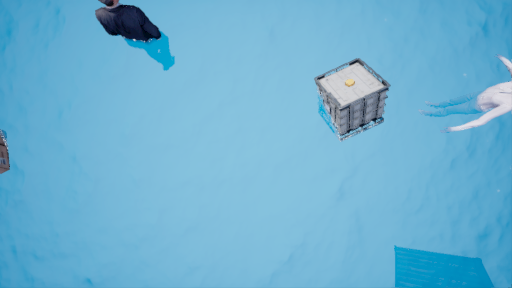person: (91, 3, 186, 81), (443, 54, 512, 133)
